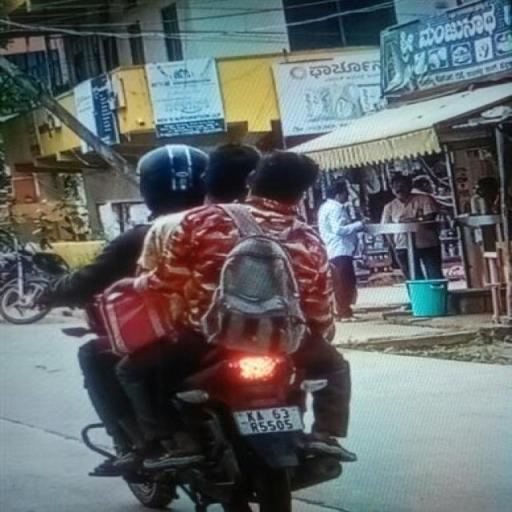tripple riding: (32, 138, 352, 400)
